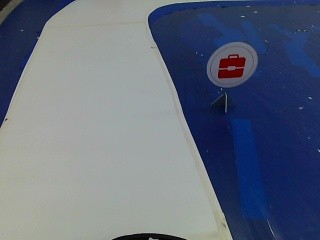company: (209, 42, 255, 88)
